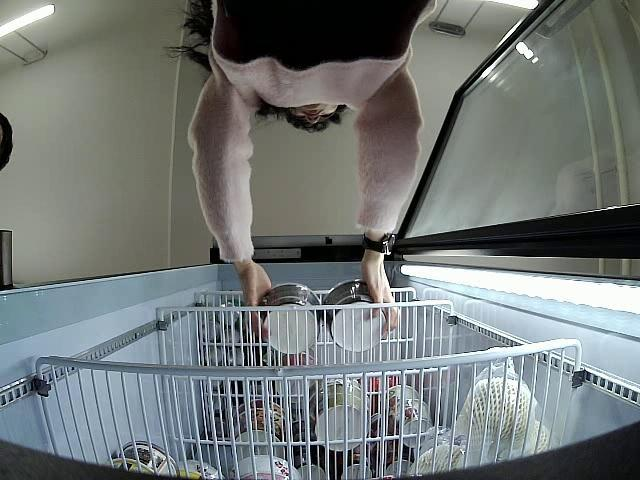07_buldak_L: (324, 280, 388, 351), (262, 284, 321, 354)
